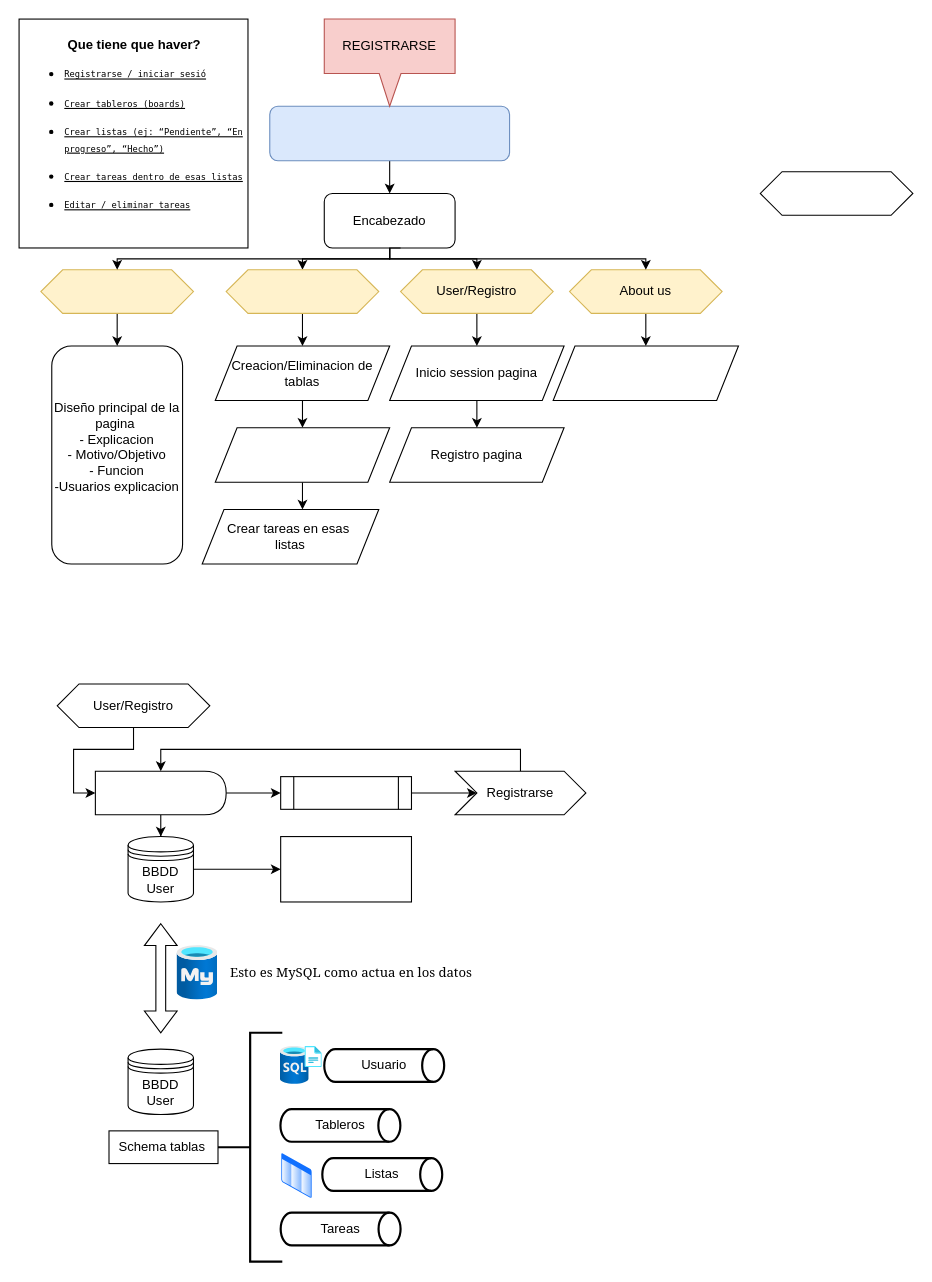
Some shapes in this 932 by 1282 pixel diagram are drawn without their labels. The shapes that lost their labels are listed below. From the top down, each one's centre as x and y in pixels, then its label:
(389,133): Web de Rutina/Planner
(836,193): Tareas/Pendientes pagina
(116,291): Inicio/Informativo
(302,291): Tablero/Listas
(645,373): Explicacion de empresa y administrador
(302,454): Edicion/Renombrar tablas
(160,792): Iniciar session
(345,792): No tiene cuenta
(345,868): Session iniciada (se guardaran sus datos)
